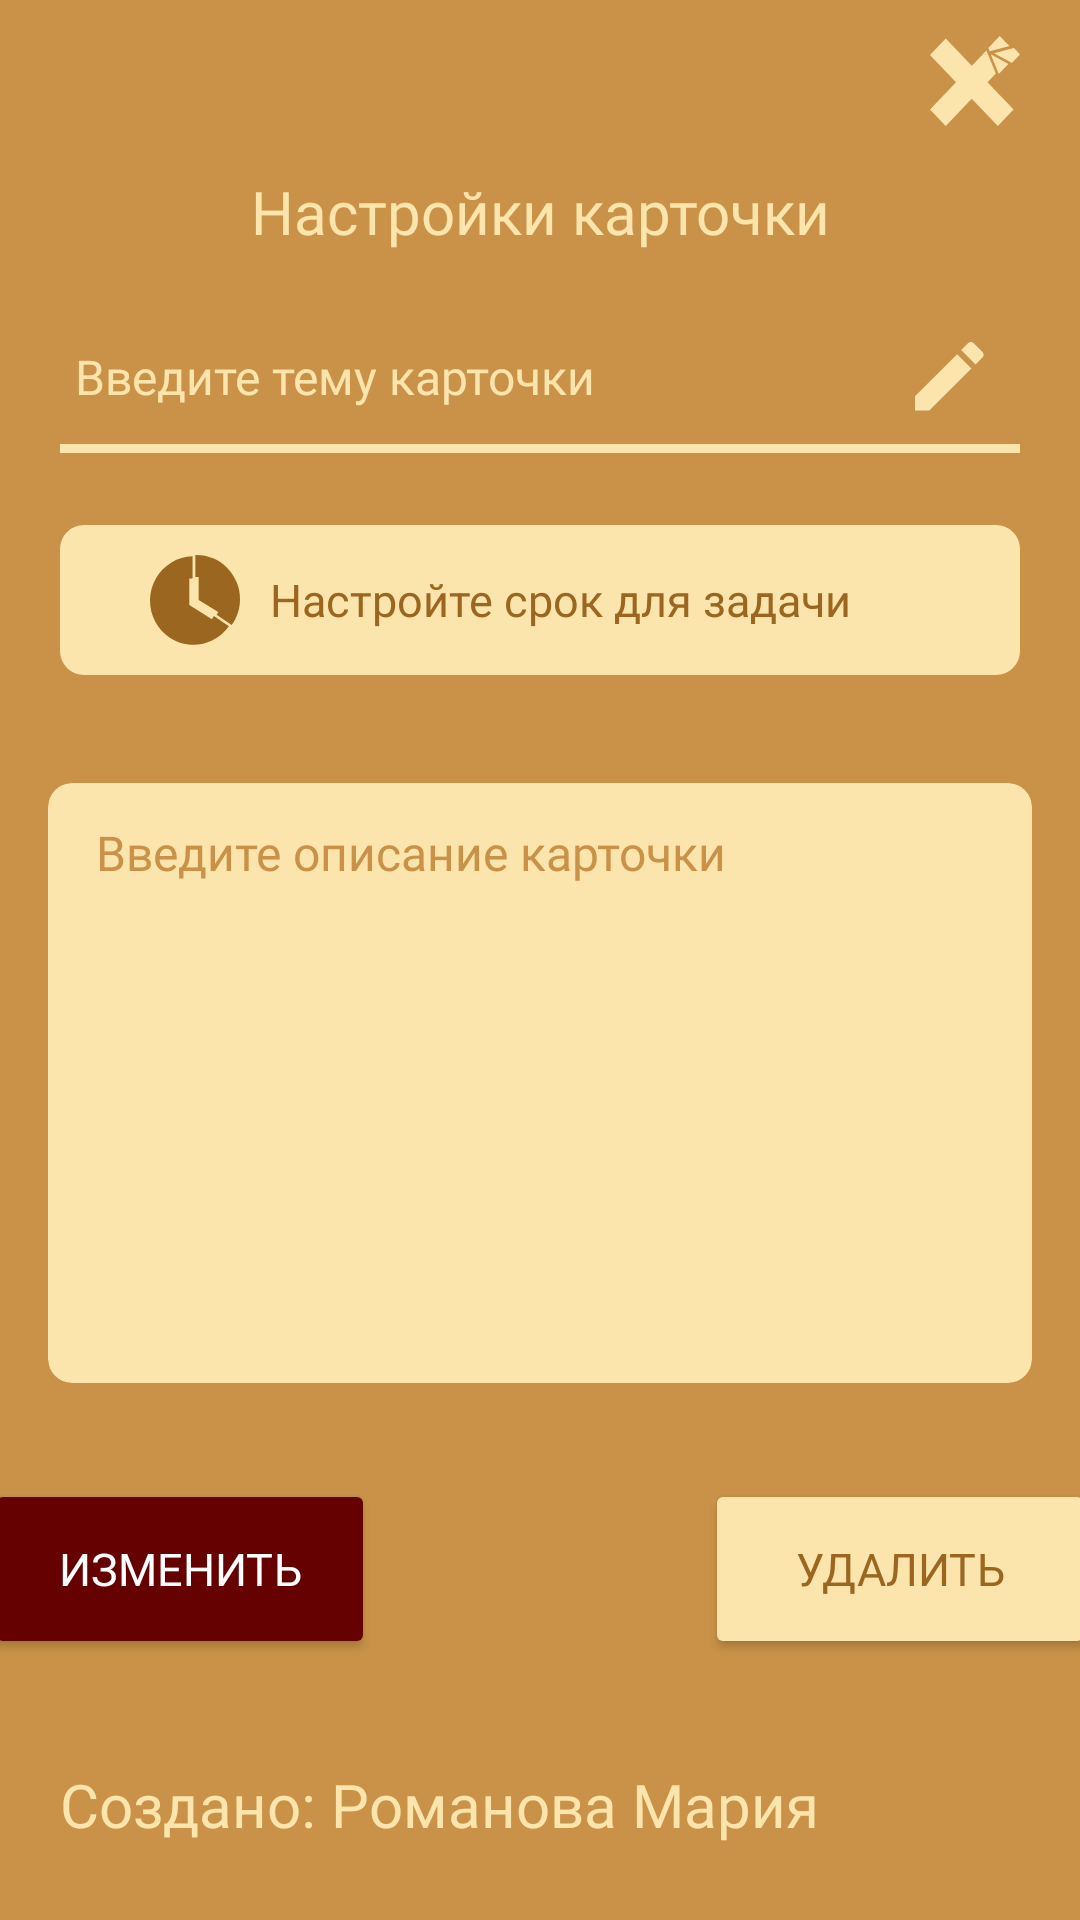

Screen size 1080w x 1920h. Icon name, then its box in pixels as rect(x1, y1, x2, y2):
clock: rect(150, 555, 240, 645)
close: rect(930, 36, 1020, 126)
